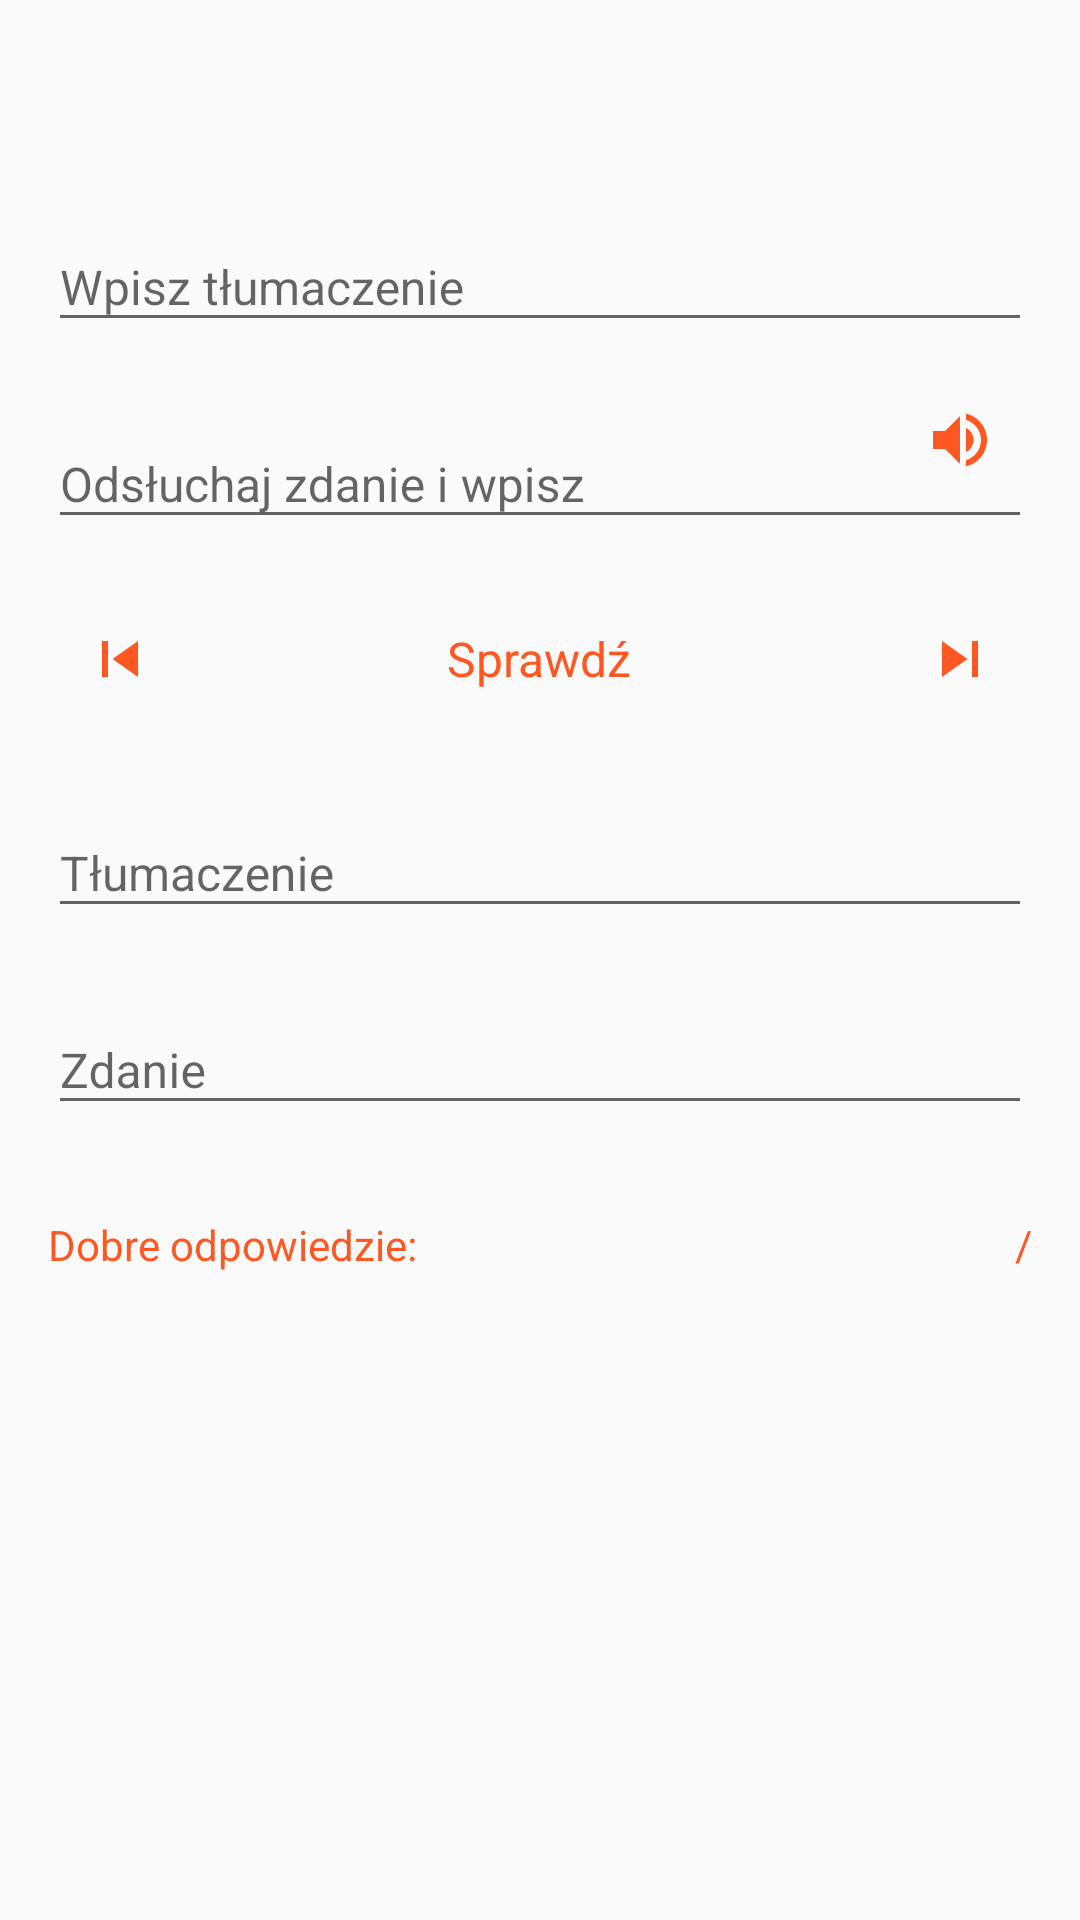

Where icons sit on this 1080*1920 app screen, as (x1, y1, x2, y2):
skip next: (942, 641, 978, 677)
skip previous: (102, 641, 138, 677)
volume up: (933, 413, 987, 467)
